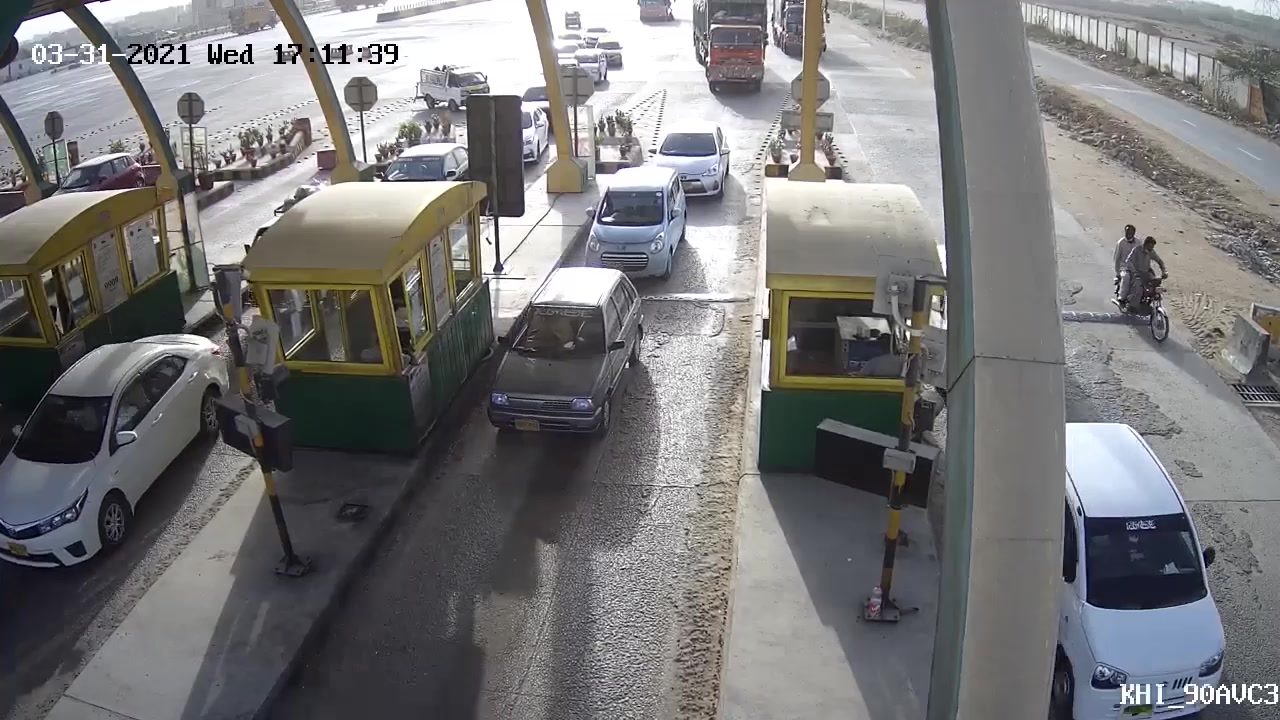F1: (468, 262, 656, 440), (571, 165, 693, 283)
